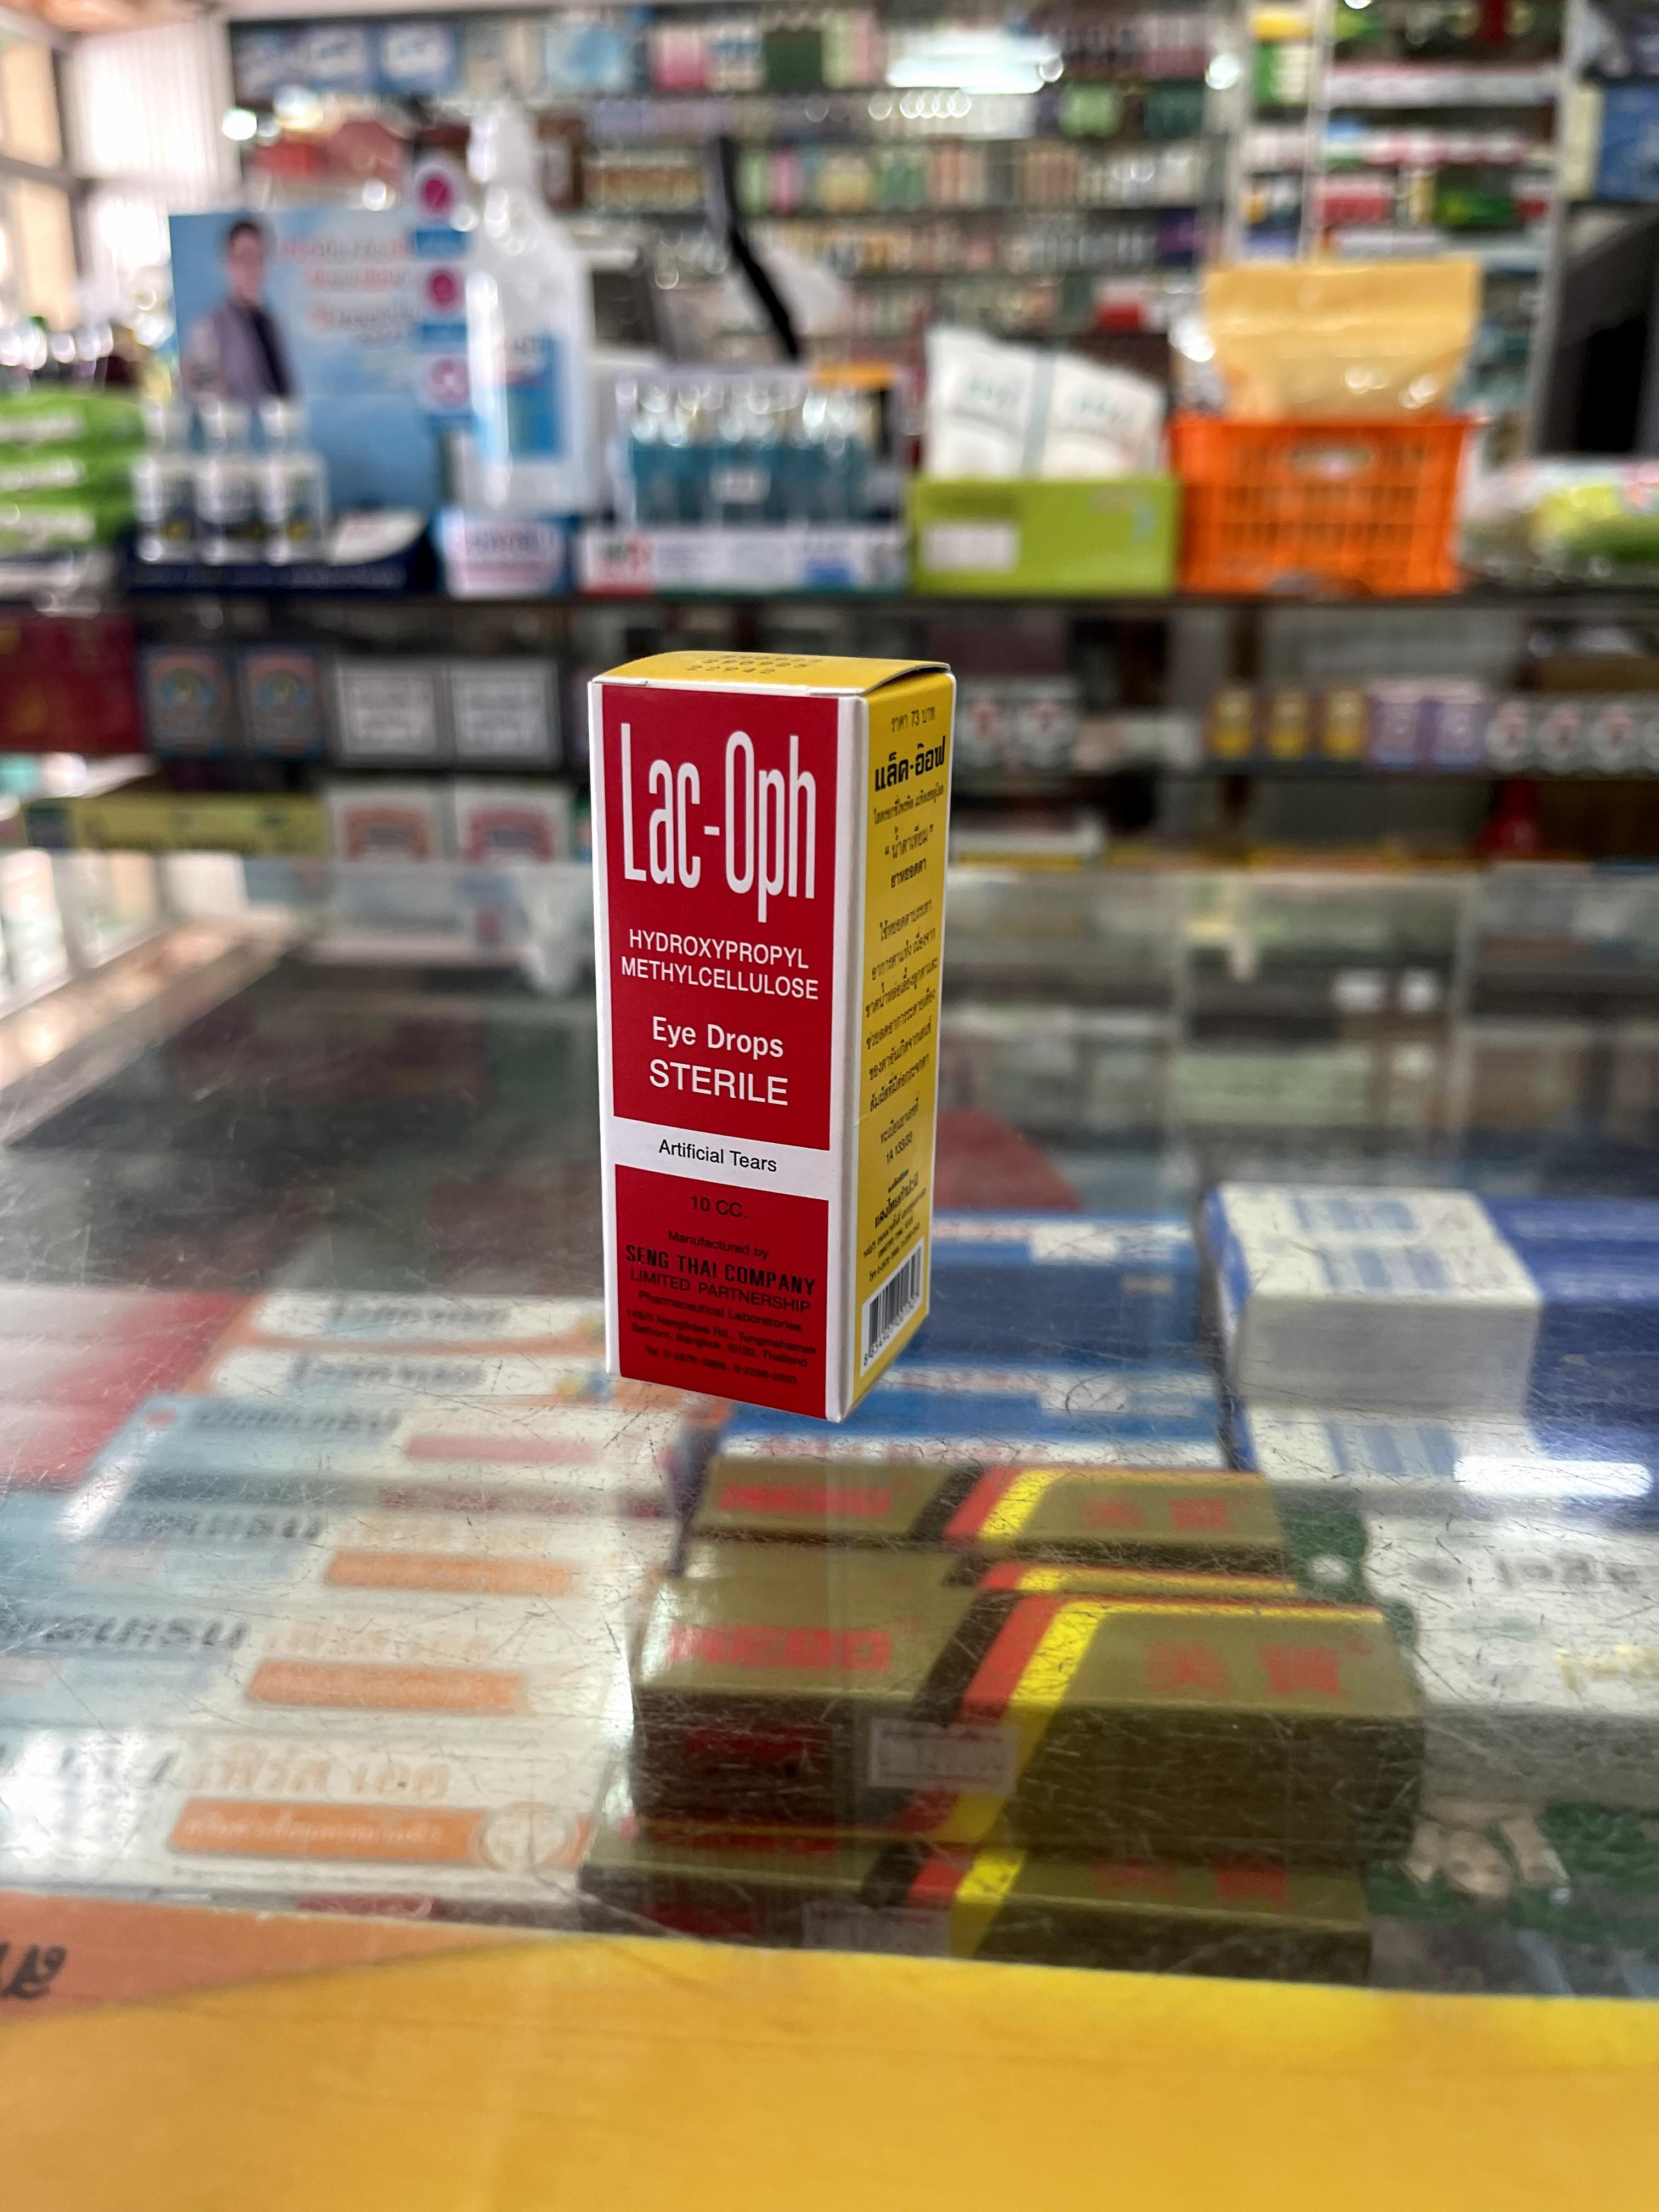Lac-Oph_Red: (592, 643, 955, 1423)
